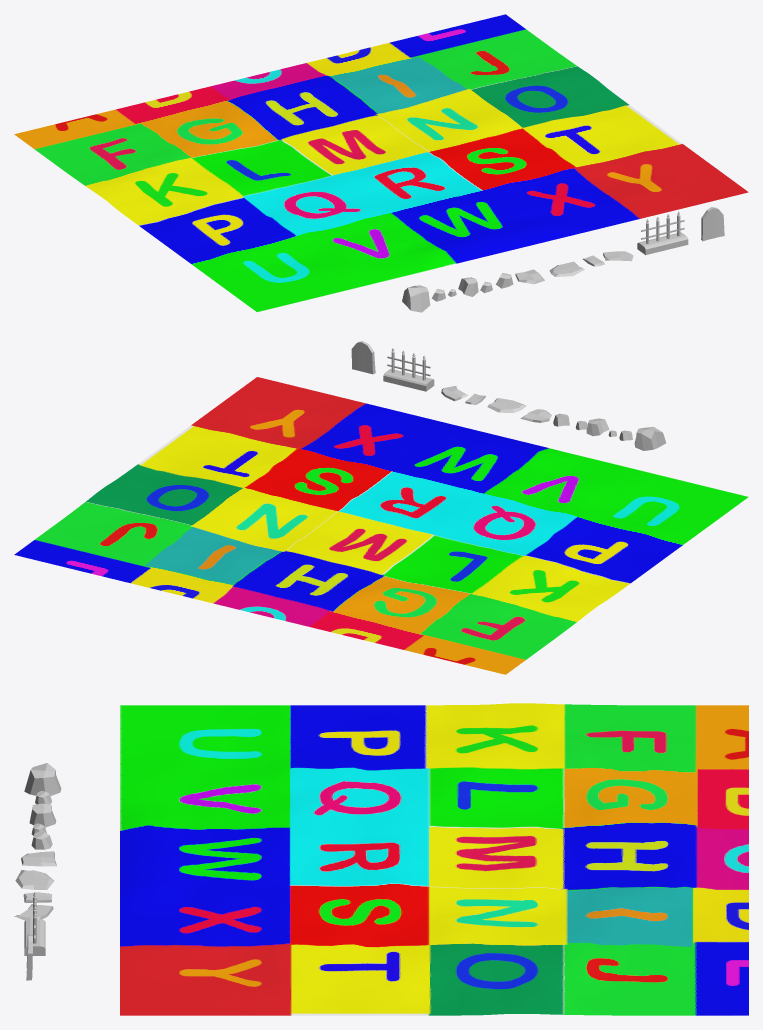
File: RoomFloor.fbx
3 views of the same model, one above another, from view 1: azimuth 30°, elevation 25°; view 2: azimuth 150°, elevation 25°; view 3: azimuth 270°, elevation 25° (orthographic). The views are drawn at different scales.
Parts seen in each view (by area): view 1: Floor, Fence, Rip, stone.003; view 2: Floor, Fence, Rip, stone.003; view 3: Floor, stone.003, Fence, tile.001.
Part boxes in pixels (bbox=[...]): Floor: bbox=[14, 14, 748, 312]; Fence: bbox=[637, 211, 688, 255]; Rip: bbox=[701, 207, 724, 241]; stone.003: bbox=[402, 285, 430, 312]; Floor: bbox=[14, 377, 748, 674]; Fence: bbox=[383, 348, 434, 391]; Rip: bbox=[351, 341, 375, 374]; stone.003: bbox=[634, 427, 666, 450]; Floor: bbox=[120, 703, 748, 1015]; stone.003: bbox=[24, 763, 61, 795]; Fence: bbox=[24, 892, 45, 955]; tile.001: bbox=[15, 870, 54, 889].
Size of the model in its own units: 3452 by 231 by 3452.
